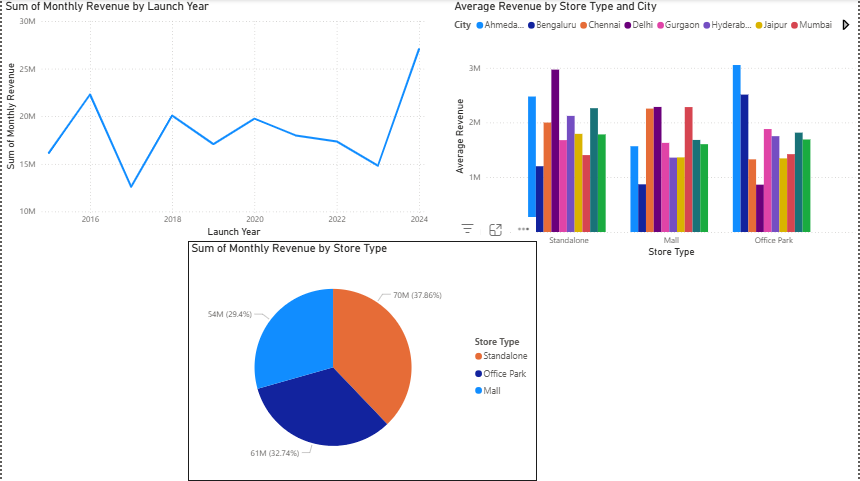

The page's visual inventory and layout, read from the dashboard file:
{"tool":"powerbi","page":{"name":"Page 1","canvas":[1280,720],"ordinal":0},"visuals":[{"type":"lineChart","fields":{"Y":["Sum(Chaayos_Data.Monthly Revenue)"],"Category":["Chaayos_Data.Launch Year"]},"box":[0,0,640.9,360.5],"z":0},{"type":"clusteredColumnChart","title":"Average Revenue by Store Type and City","fields":{"Series":["Chaayos_Data.City"],"Category":["Chaayos_Data.Store Type"],"Y":["Chaayos_Data.Average Revenue"]},"box":[670.7,0,609.5,391.4],"z":1},{"type":"pieChart","fields":{"Category":["Chaayos_Data.Store Type"],"Y":["Sum(Chaayos_Data.Monthly Revenue)"]},"box":[277.8,361.5,521.3,358.5],"z":2}]}

Visuals, with their boxes in screenshot pixels (x1, y1, x2, y2), scaled from the page's 1280x720 canvas onto the 860x481 screenshot:
lineChart - Sum(Chaayos_Data.Monthly Revenue) x Chaayos_Data.Launch Year: box=[0, 0, 431, 241]
"Average Revenue by Store Type and City" clusteredColumnChart: box=[451, 0, 859, 261]
pieChart - Chaayos_Data.Store Type x Sum(Chaayos_Data.Monthly Revenue): box=[187, 242, 537, 480]
